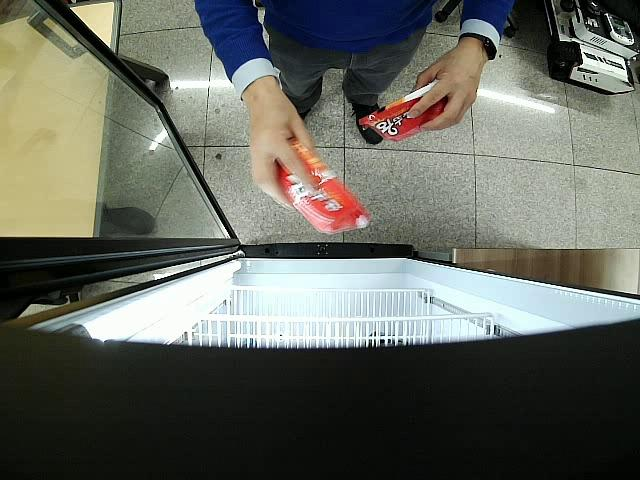00_hand: (250, 93, 318, 210), (408, 46, 481, 133)
10_wangTtukkeong: (277, 136, 370, 235), (359, 79, 447, 142)
